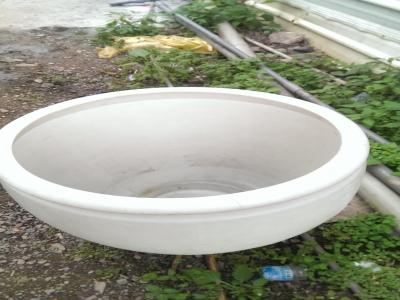bottle: (254, 262, 311, 283)
bowl: (1, 84, 376, 258)
plastic_bag: (101, 32, 204, 59)
